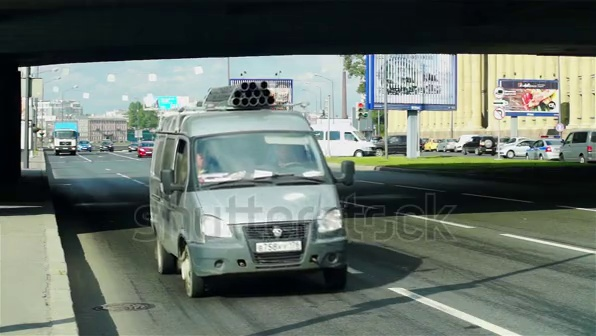licenseplate: (257, 242, 315, 256)
